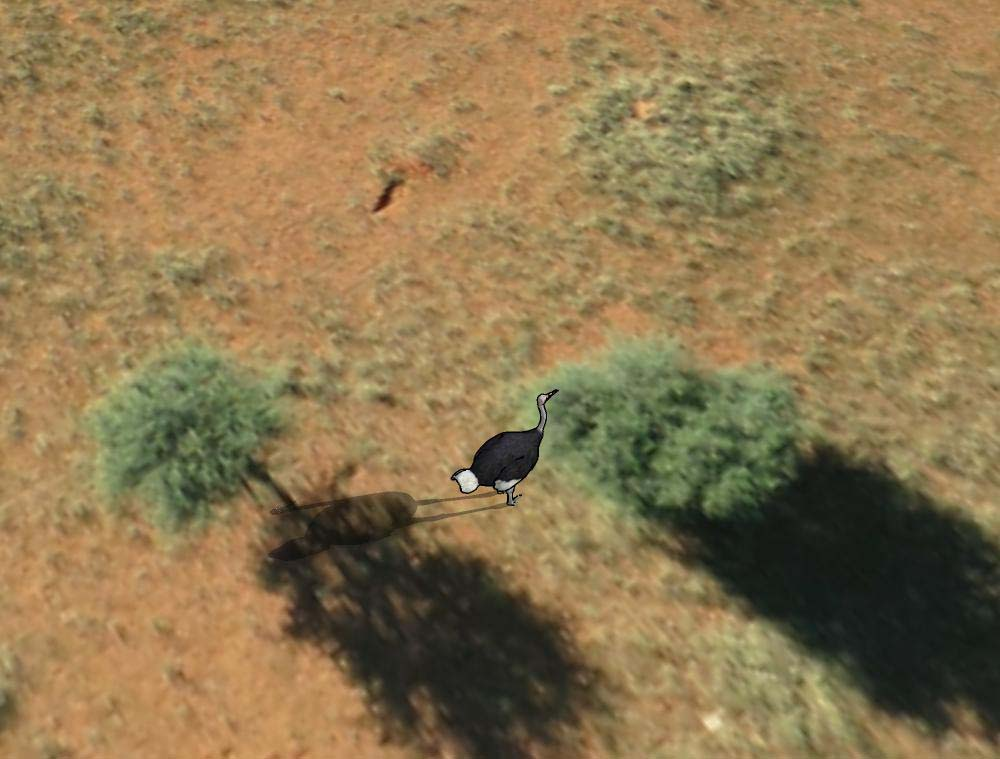springbok: (440, 378, 560, 515)
